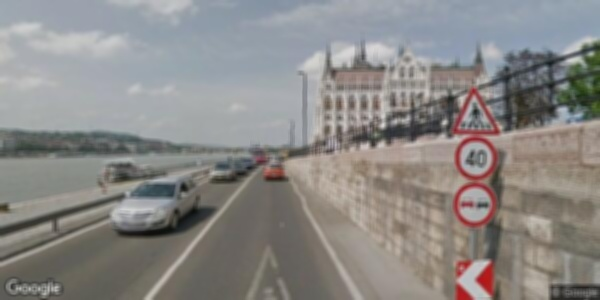b_speed_limit: (454, 135, 498, 181)
f_others: (452, 181, 499, 228)
